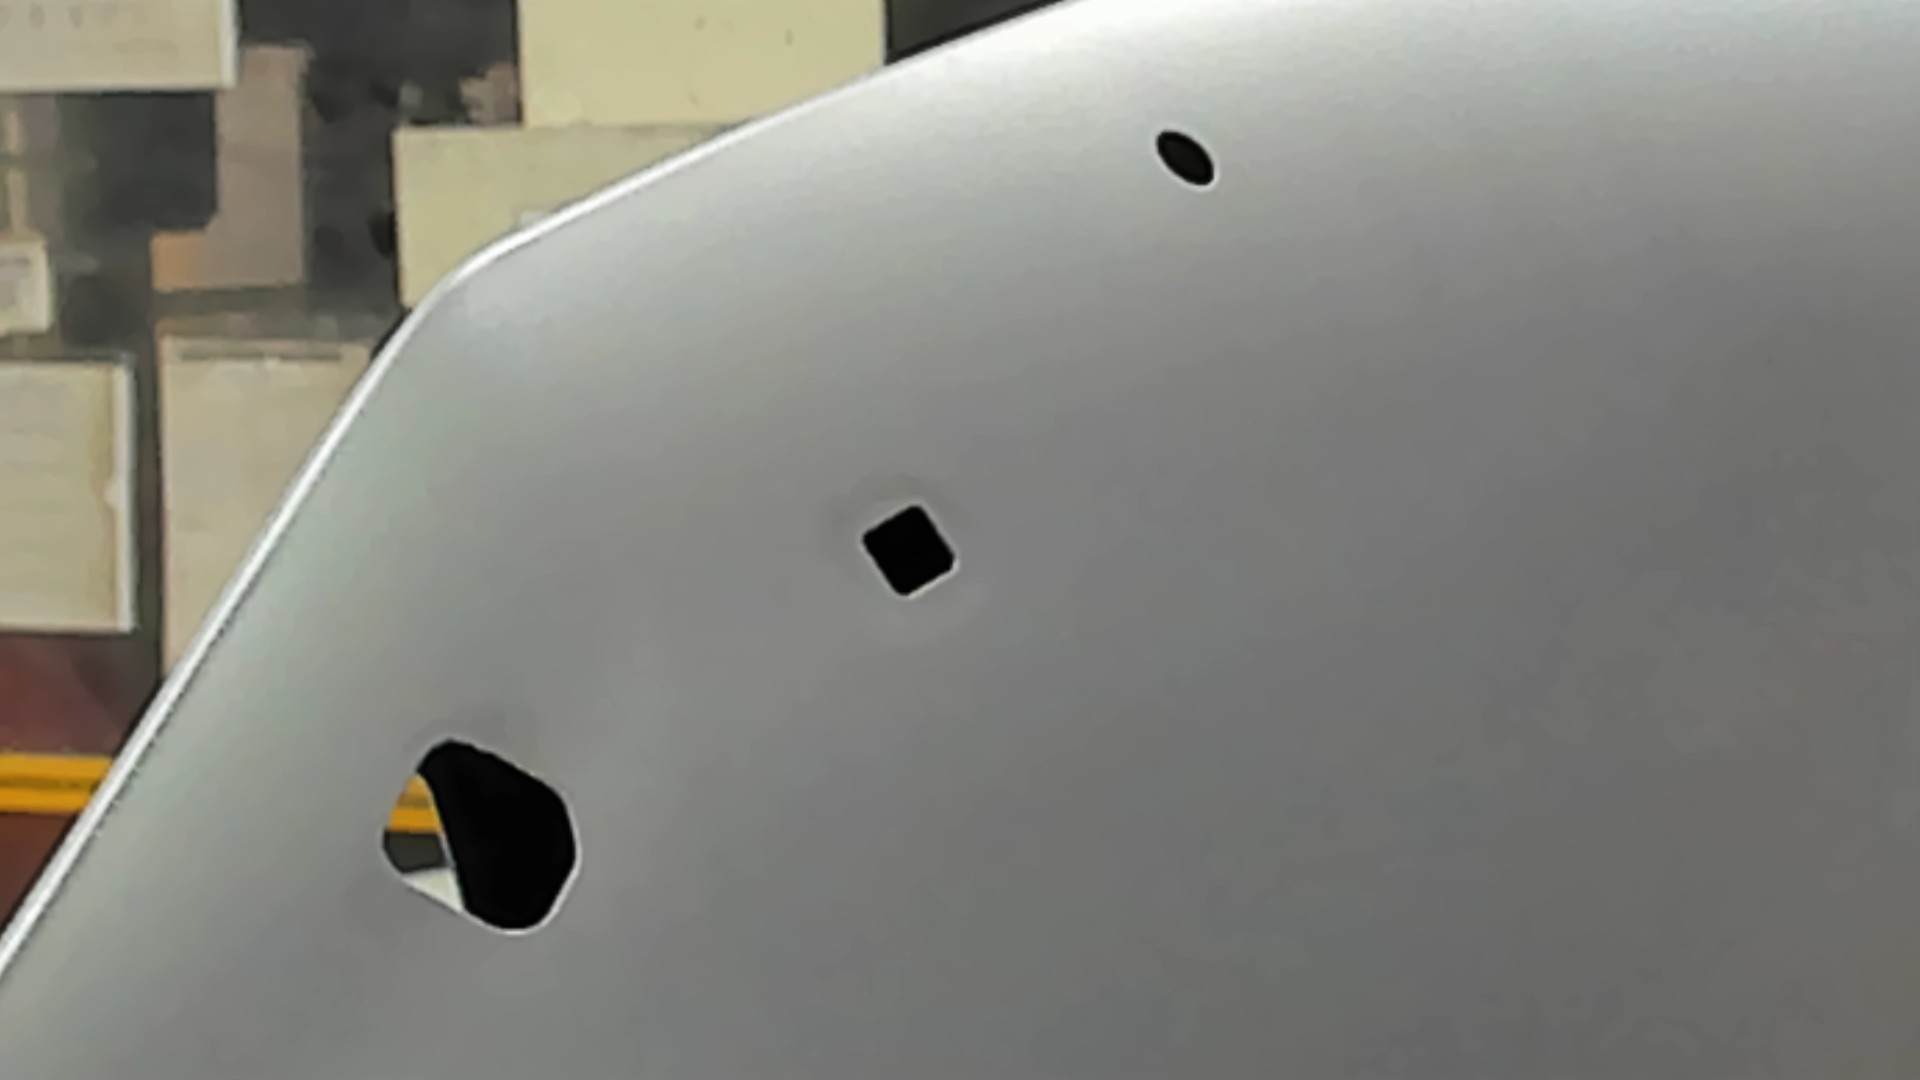chico: (1150, 127, 1220, 194)
grande: (371, 735, 585, 940)
mediano: (851, 497, 964, 608)
